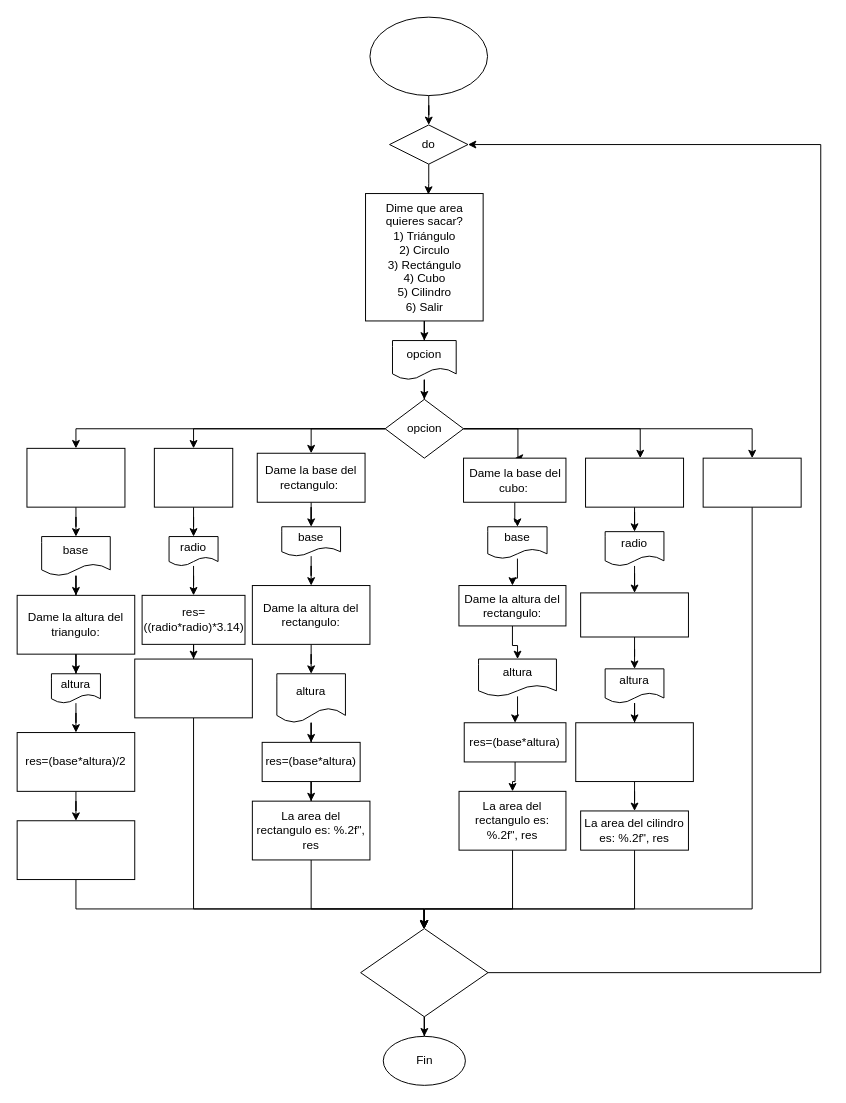
The diagram is 846 pixels wide and 1103 high, and some of its shapes have lost their labels. The box of each missing label's shape, as (x1, y1, x2, y2) in pixels:
Adiios: (702, 457, 801, 507)
Dame el radio del circulo:: (153, 447, 233, 507)
Dame la altura del cilindro:: (580, 592, 688, 637)
Dame la base del triangulo:: (26, 447, 125, 507)
Dame radio del cilindro:: (585, 457, 684, 507)
Inicio: (369, 16, 488, 96)
La area del radio del circulo: %.2f", res: (134, 658, 252, 718)
La area del triangulo es: %.2f", res: (16, 820, 135, 880)
opcion<=5 && opcion>=1: (360, 928, 488, 1017)
res=((2*3.14*radio*altura)+(2*3.14*(radio*radio))): (575, 722, 693, 782)
